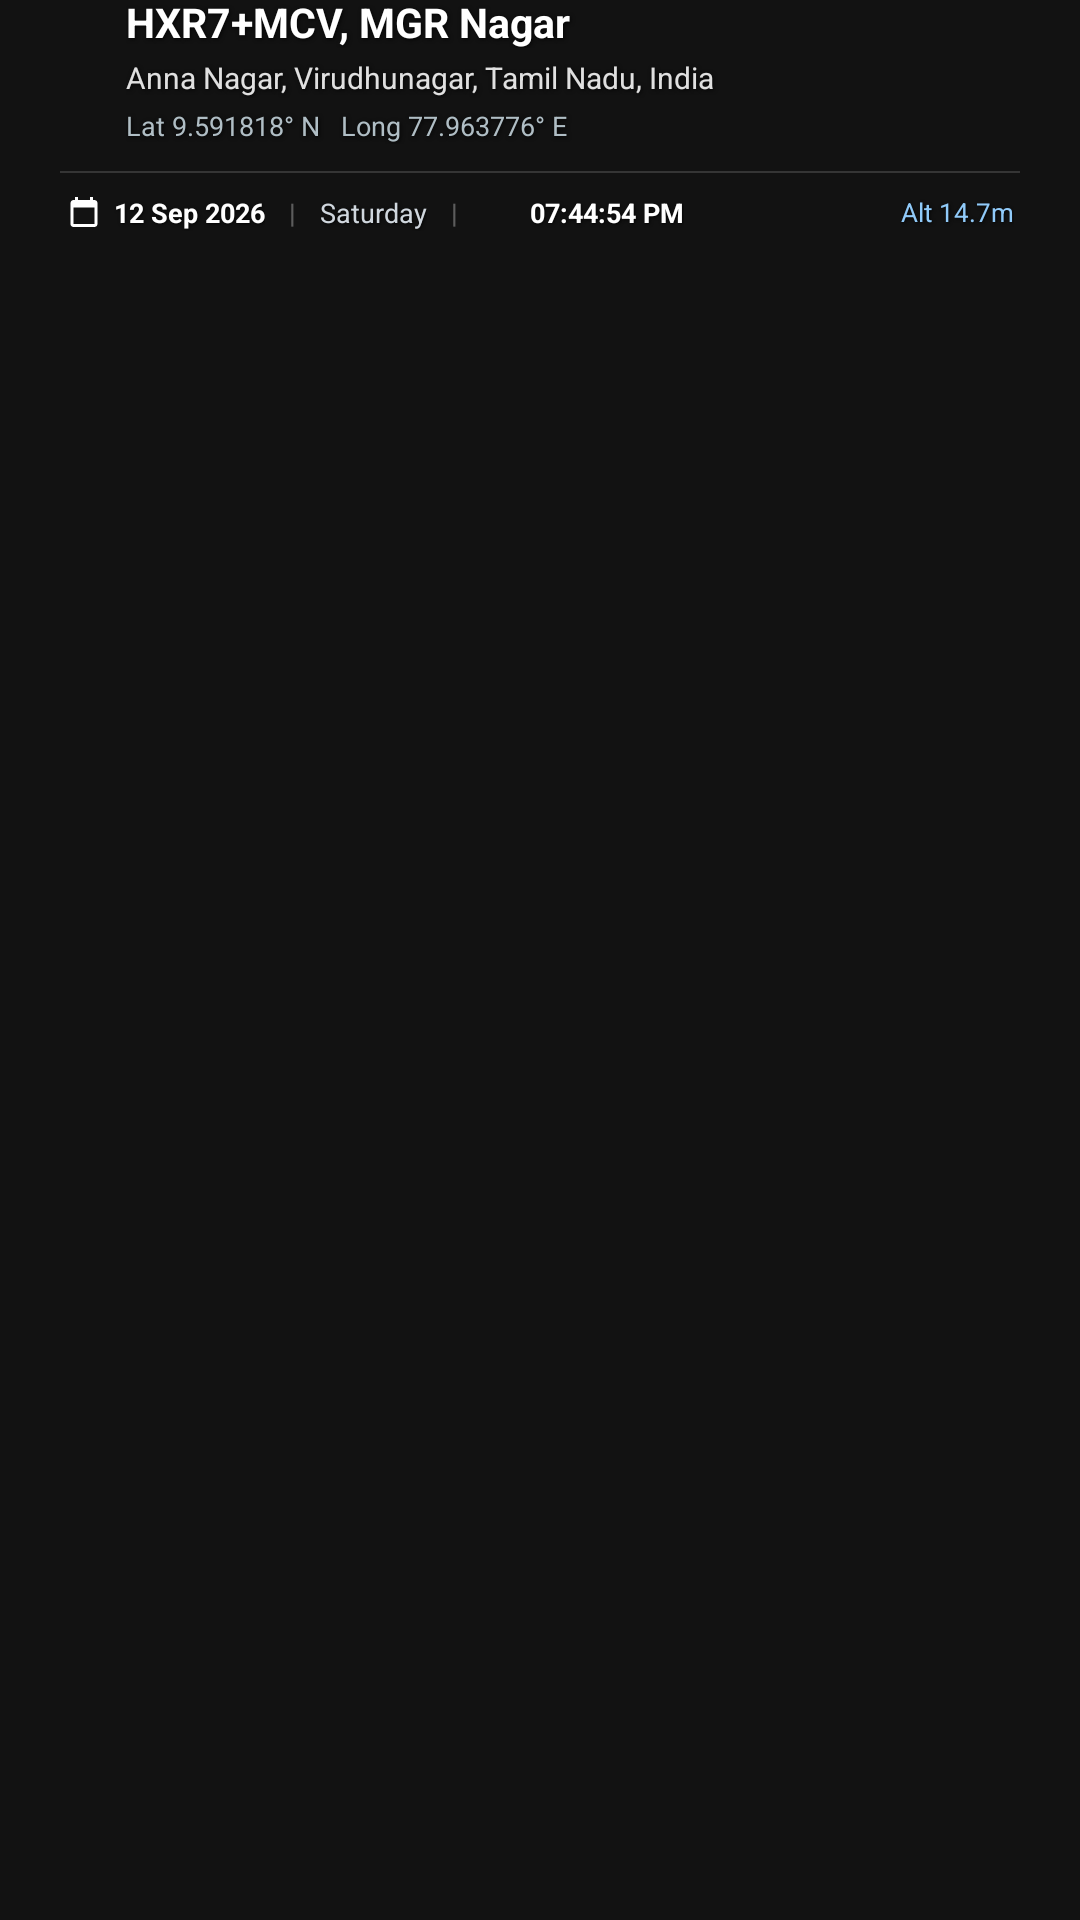

Point at icon controls on the screen. Image size 1080px x 1920px, points as (x,y).
stamp calendar: (84,212)
